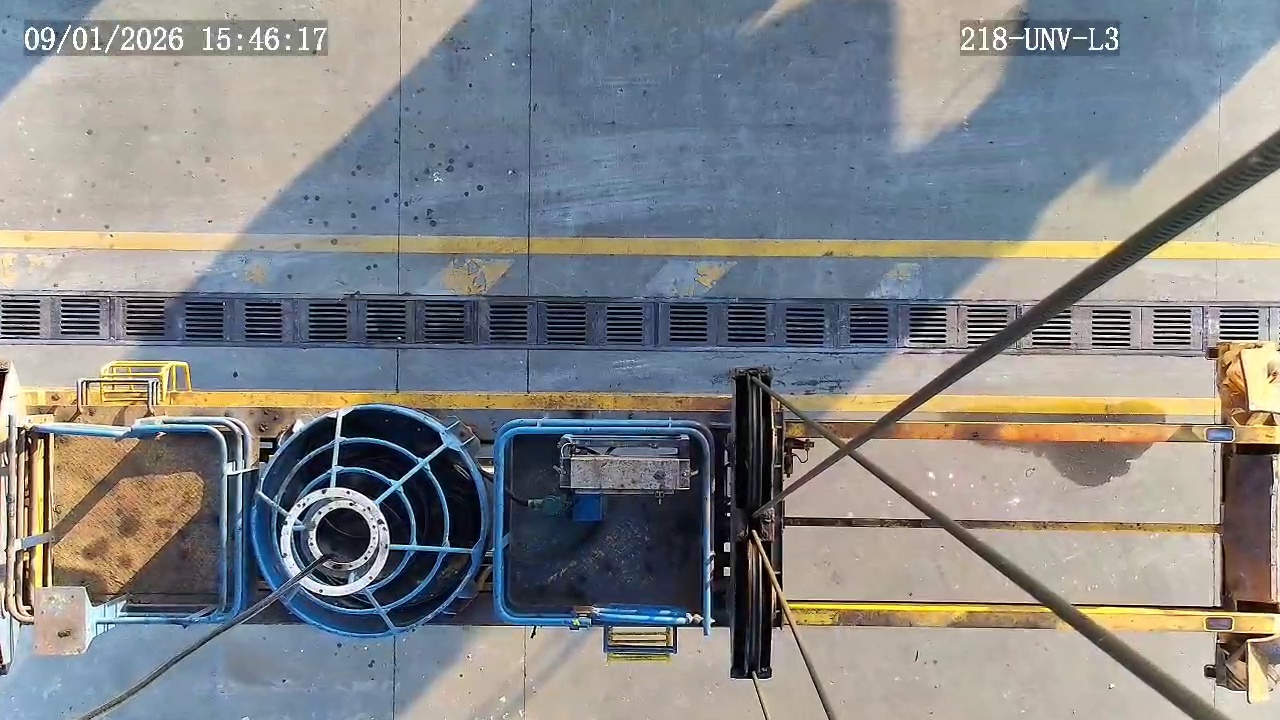right: (252, 404, 487, 638)
